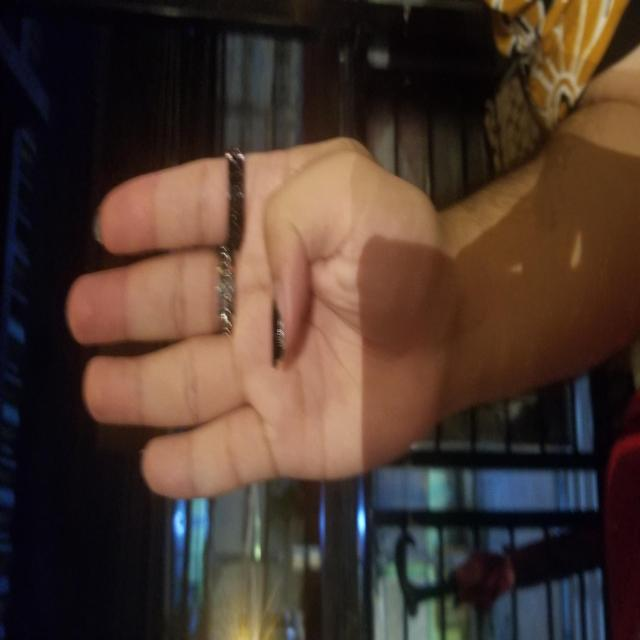B: (139, 68, 510, 440)
